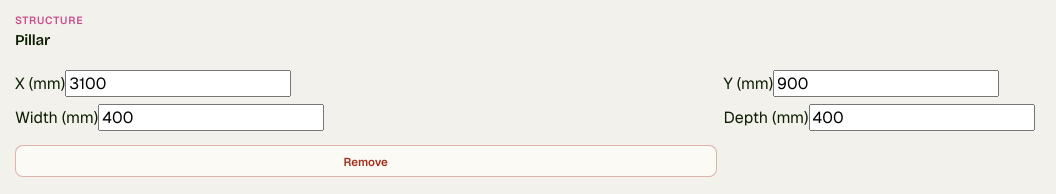
Test: restores the saved layout value when a number is invalid
Clear the number field labelled "Width (mm)" at (211, 118), box [98,104,324,131]
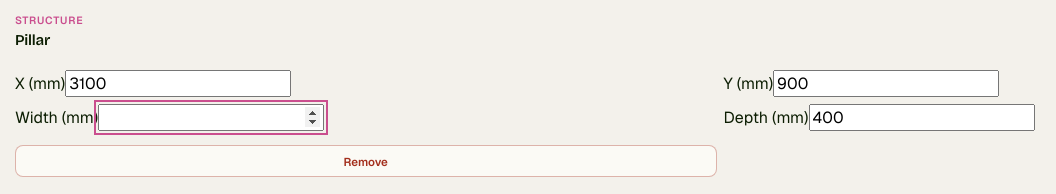
Press Tab
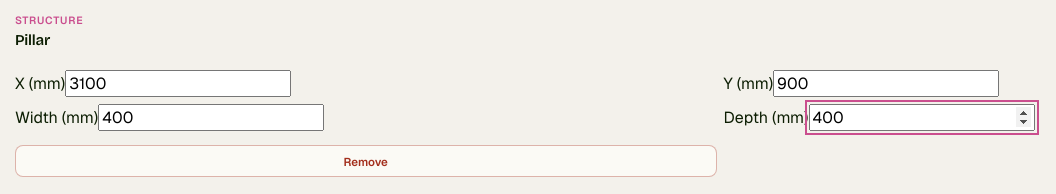
Check: the number field labelled "Width (mm)" holds "400", box [98,104,324,131]
